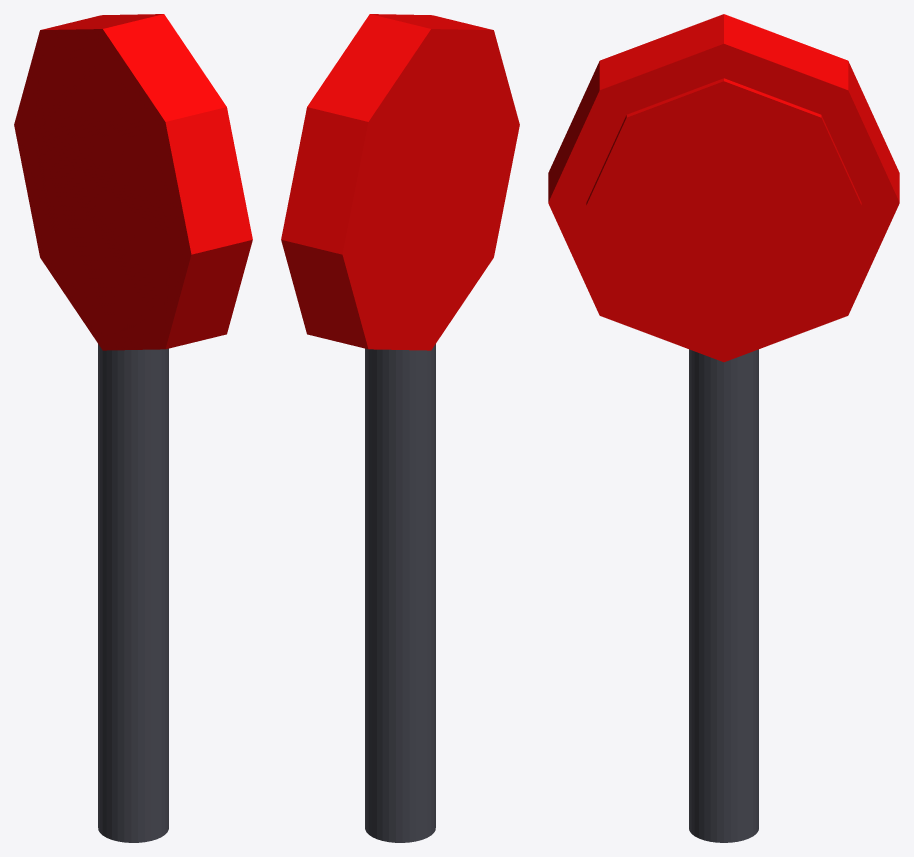
The model's file is sign.fbx.
The picture shows the model from 3 angles, left to right: view 1: azimuth 30°, elevation 25°; view 2: azimuth 150°, elevation 25°; view 3: azimuth 270°, elevation 25°; orthographic projection.
Visible parts, largest first — view 1: Cylinder.001; view 2: Cylinder.001; view 3: Cylinder.001.
Boxes of the visible parts, bbox=[...] form: Cylinder.001: bbox=[14, 14, 252, 842]; Cylinder.001: bbox=[281, 14, 519, 842]; Cylinder.001: bbox=[548, 14, 899, 842].
Size of the model in its own units: 11 by 125 by 50.
